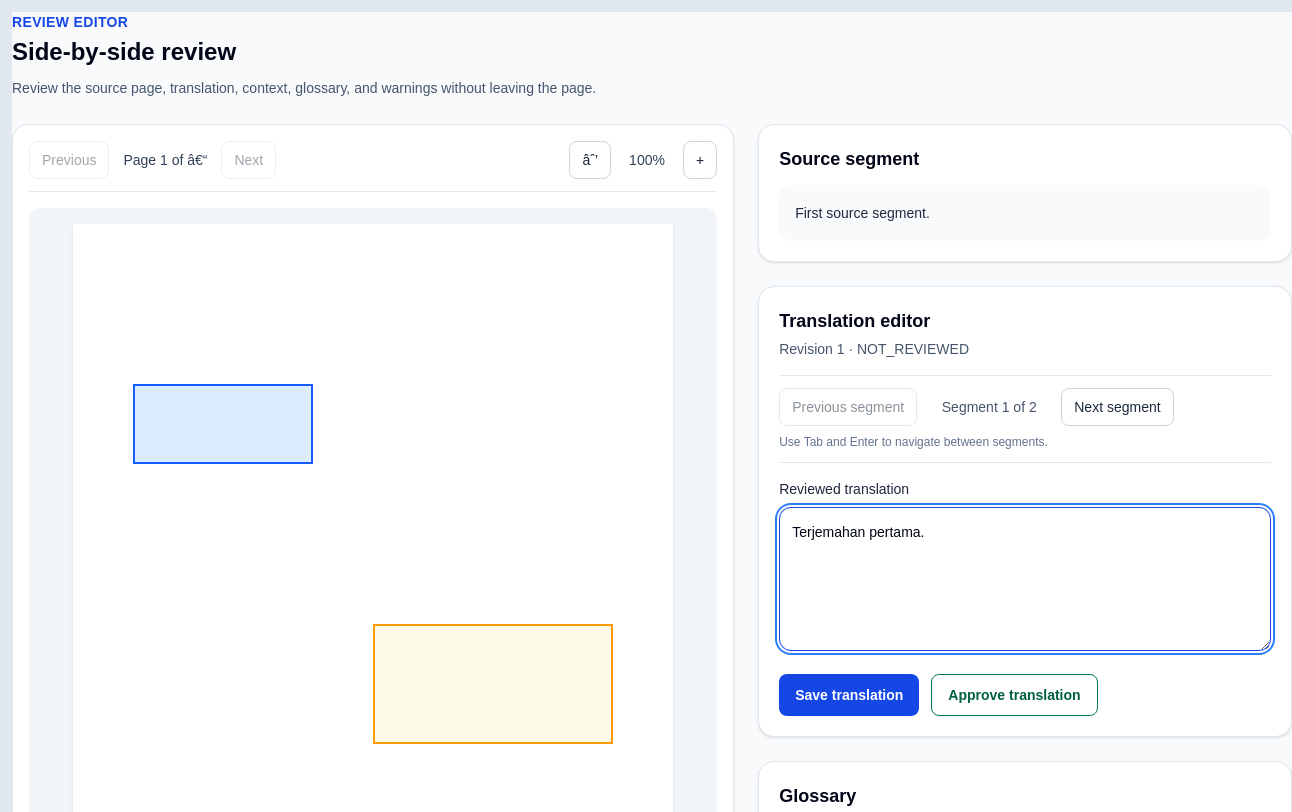
Test: ReviewEditor › approves the selected translation at its current revision
Expected: the text box labelled "Reviewed translation" is shown, [779,507,1271,651]
Click the button "Approve translation" at (1014, 695), box [931,674,1098,716]
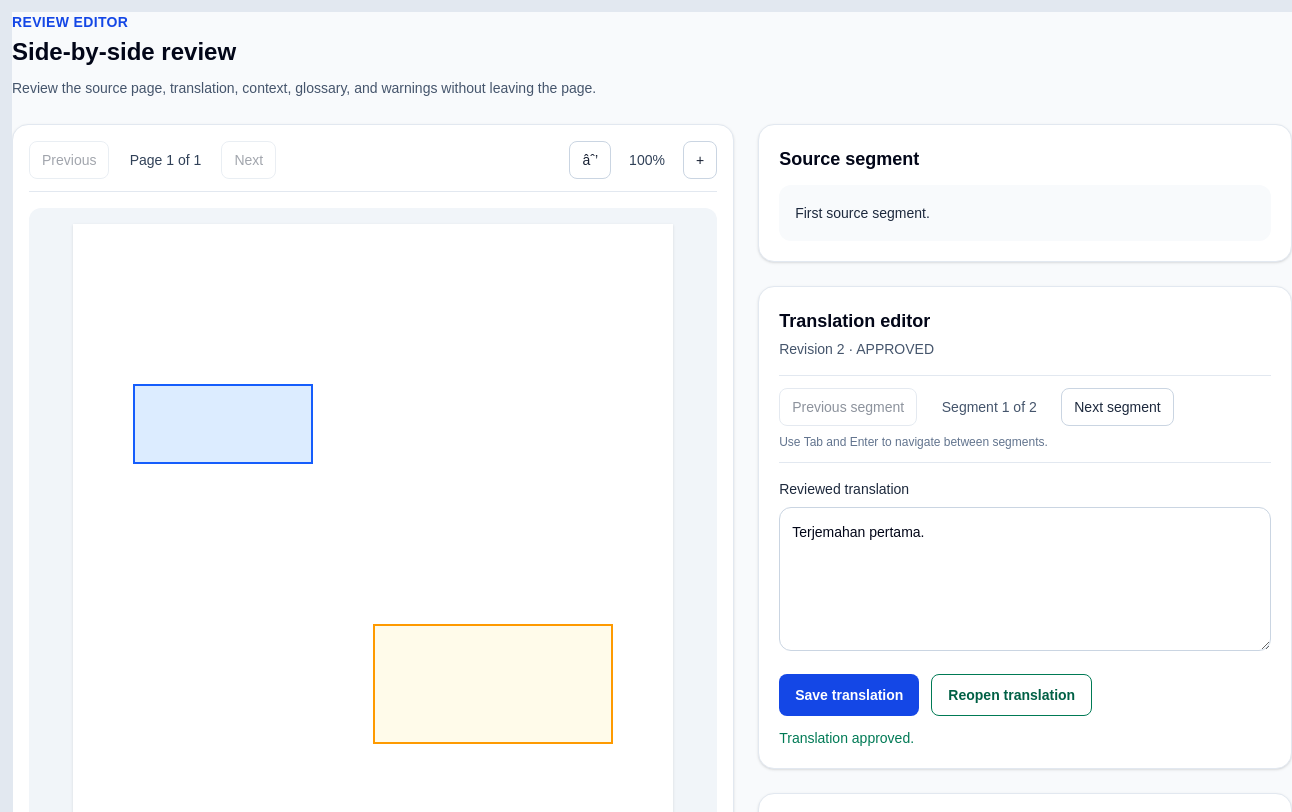
Now the text "Translation approved." is shown, box [779,730,914,746]
